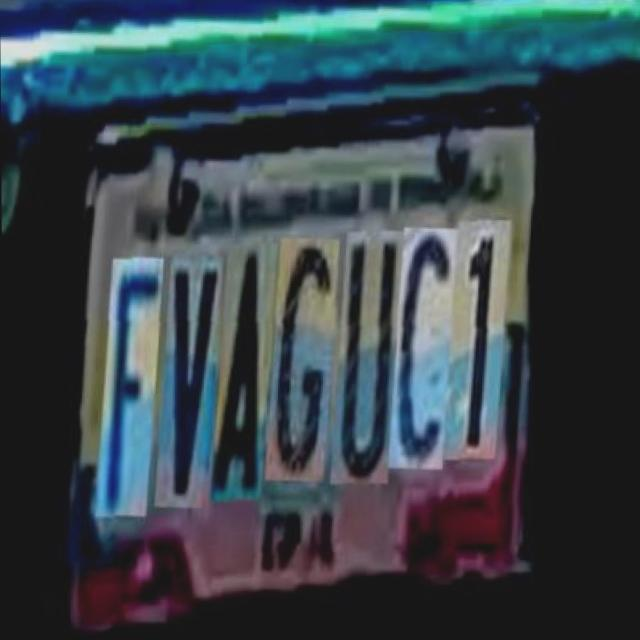1: (447, 214, 516, 456)
a: (216, 234, 283, 495)
c: (393, 220, 465, 466)
f: (100, 247, 169, 511)
g: (270, 229, 345, 478)
u: (335, 222, 410, 481)
v: (161, 244, 230, 502)
